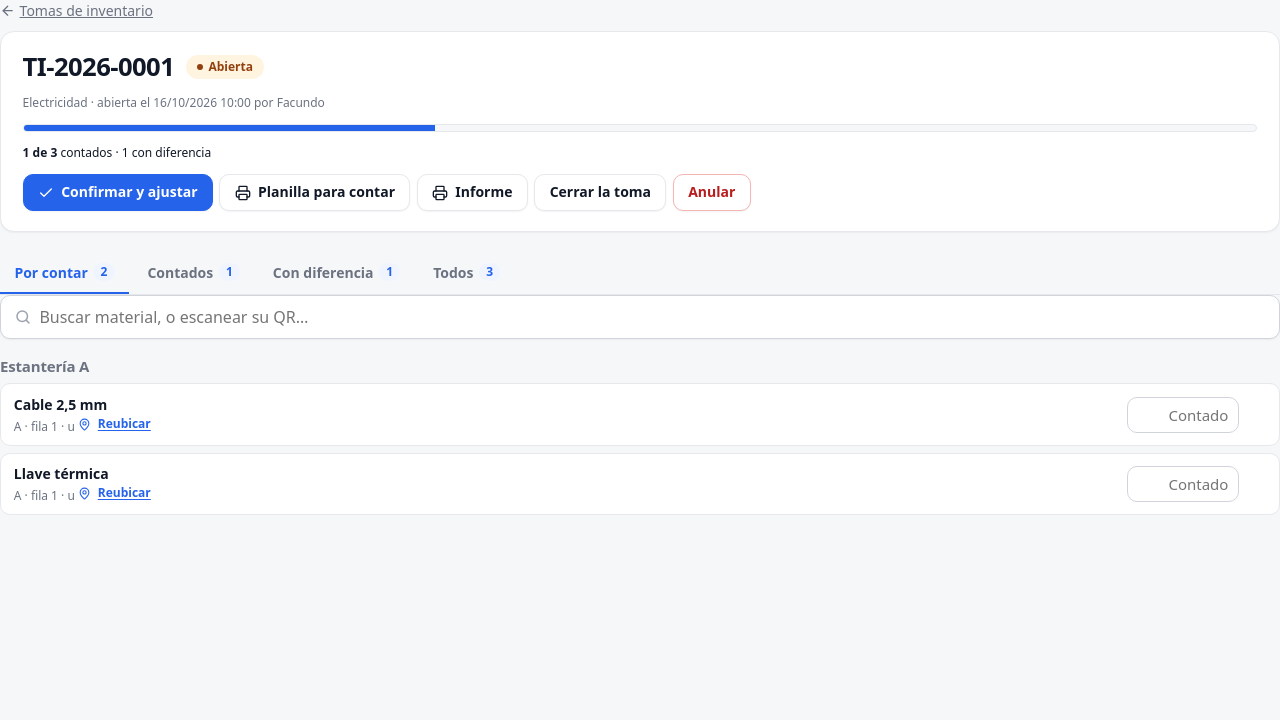
TomaInventarioPage › antes de ajustar dice qué va a pasar, y lo no contado no se toca
Click the button "Confirmar y ajustar": (118, 193) [23, 174, 213, 211]
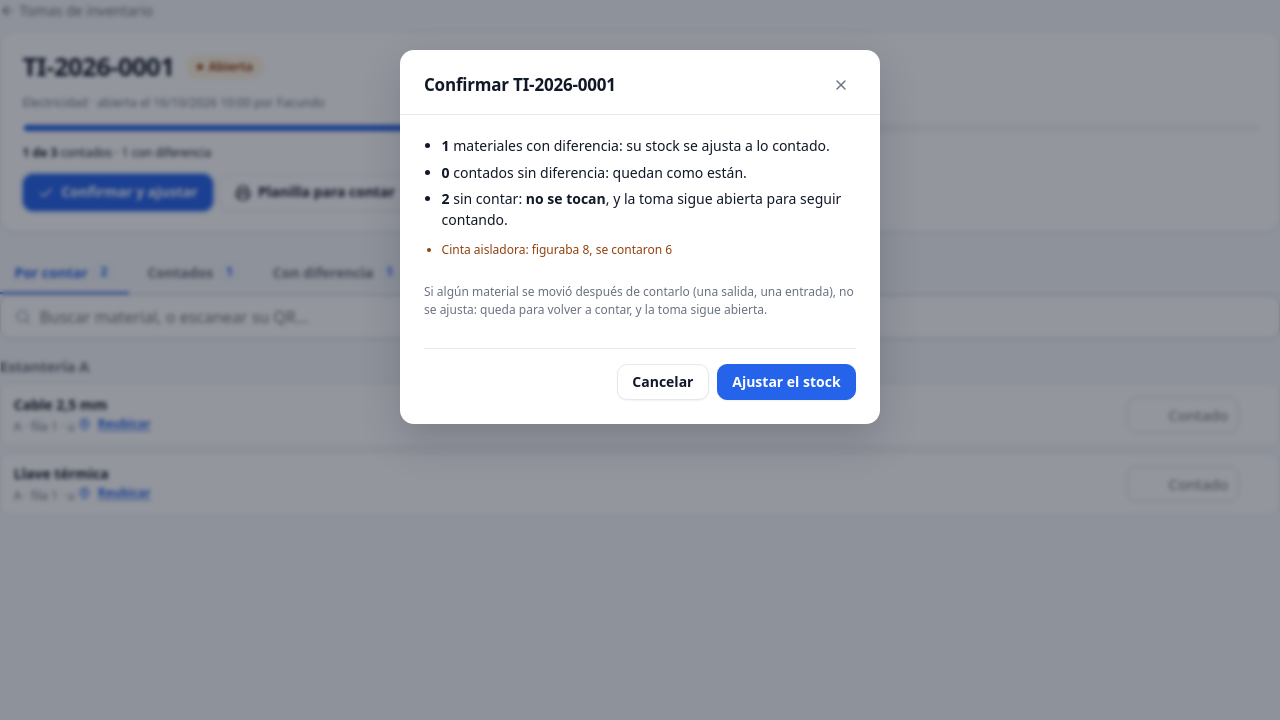
Result: the text "no se tocan" is shown at [526, 189, 606, 208]
Result: the list item "Cinta aisladora: figuraba 8, se contaron 6" is shown at [442, 241, 672, 258]
Click the button "Ajustar el stock": (786, 382) [717, 364, 856, 400]
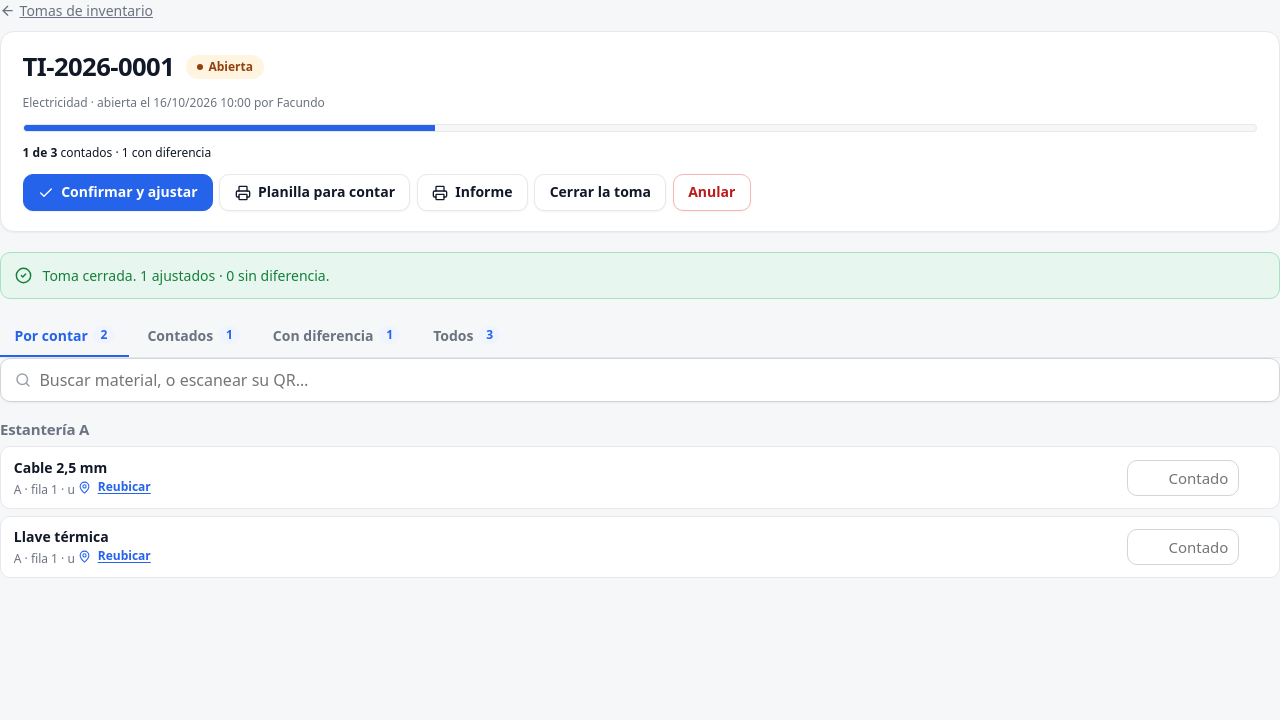
Result: the text "Toma cerrada. 1 ajustados · 0 sin diferencia." is shown at [43, 266, 330, 285]
